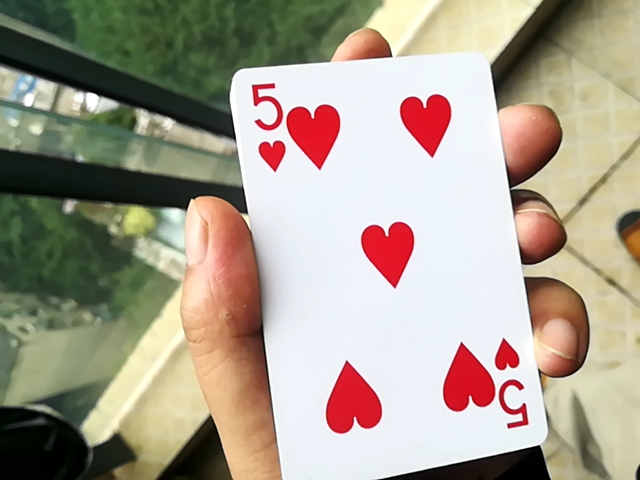hx 5: (211, 52, 551, 480)
